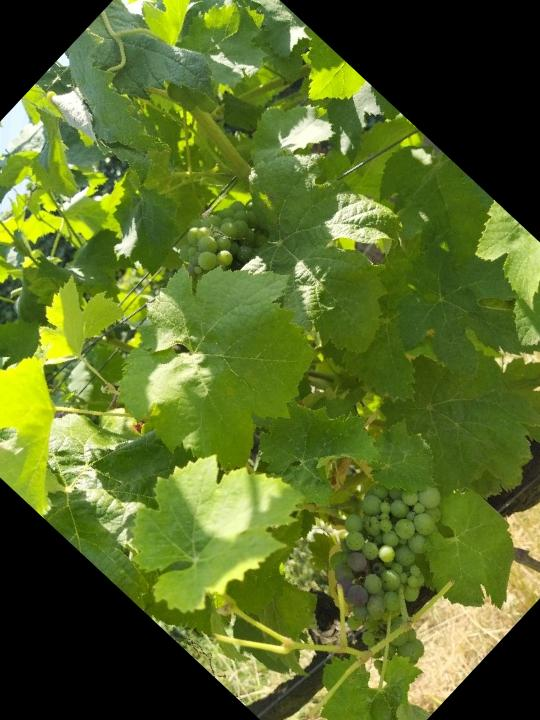grape: (284, 454, 515, 685)
